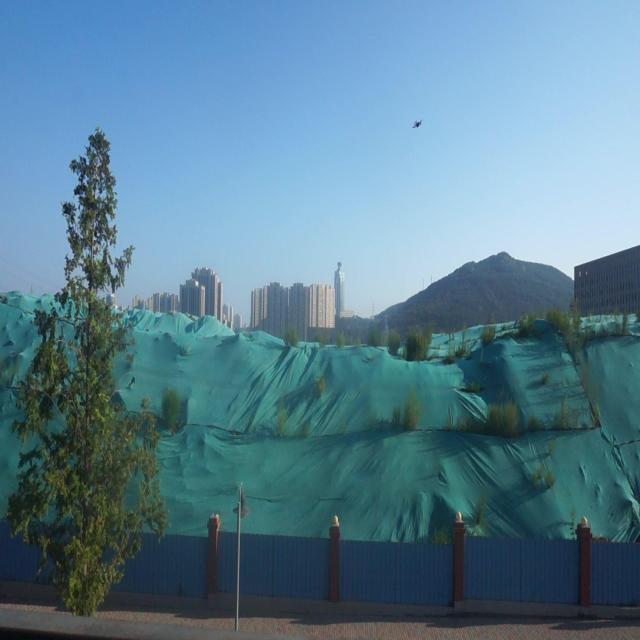UAV: (412, 119, 423, 128)
